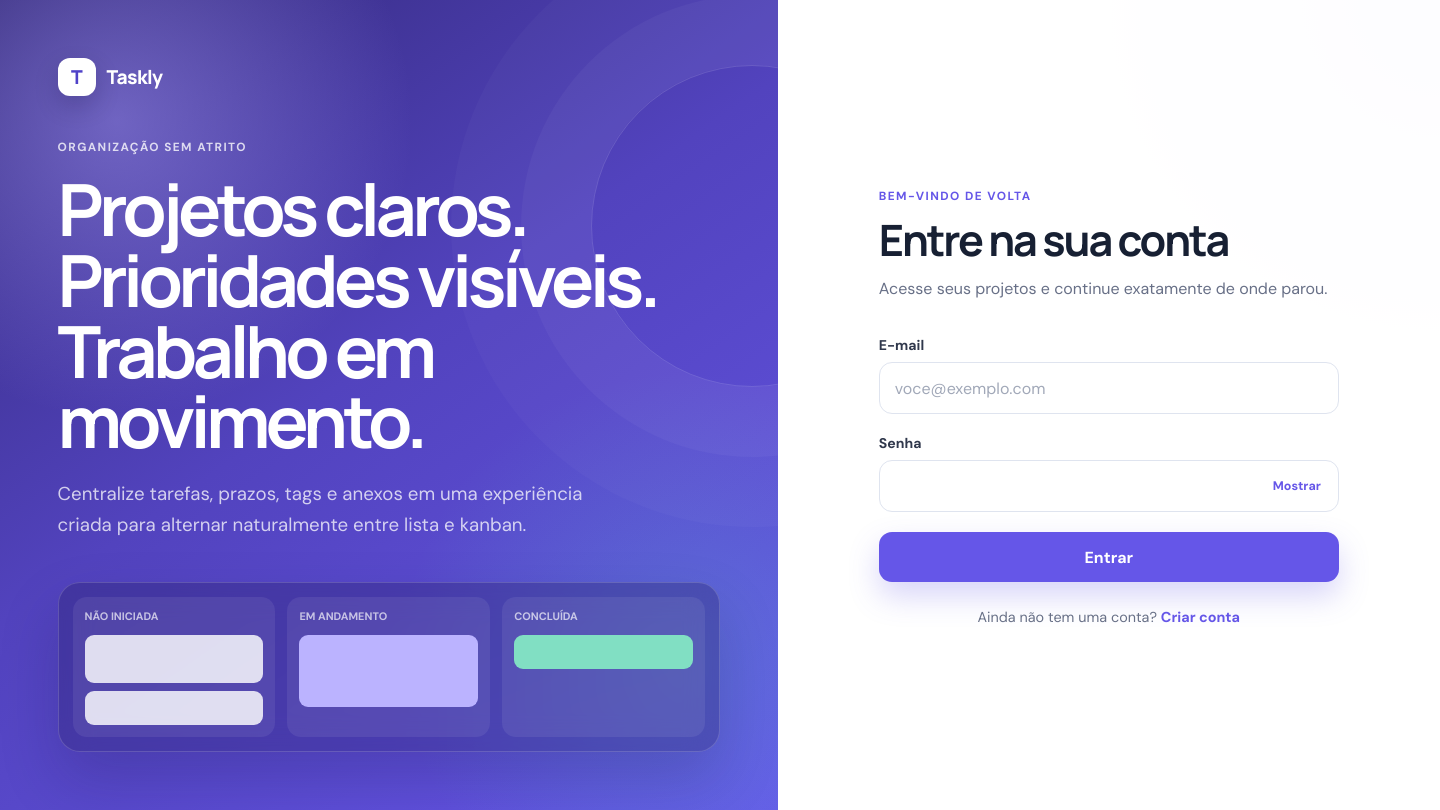
it: LoginPage › shows validation messages before sending invalid data
Type "email-invalido" into the field labelled "E-mail".
click(1109, 388); type("email-invalido")  # box [879, 362, 1339, 414]
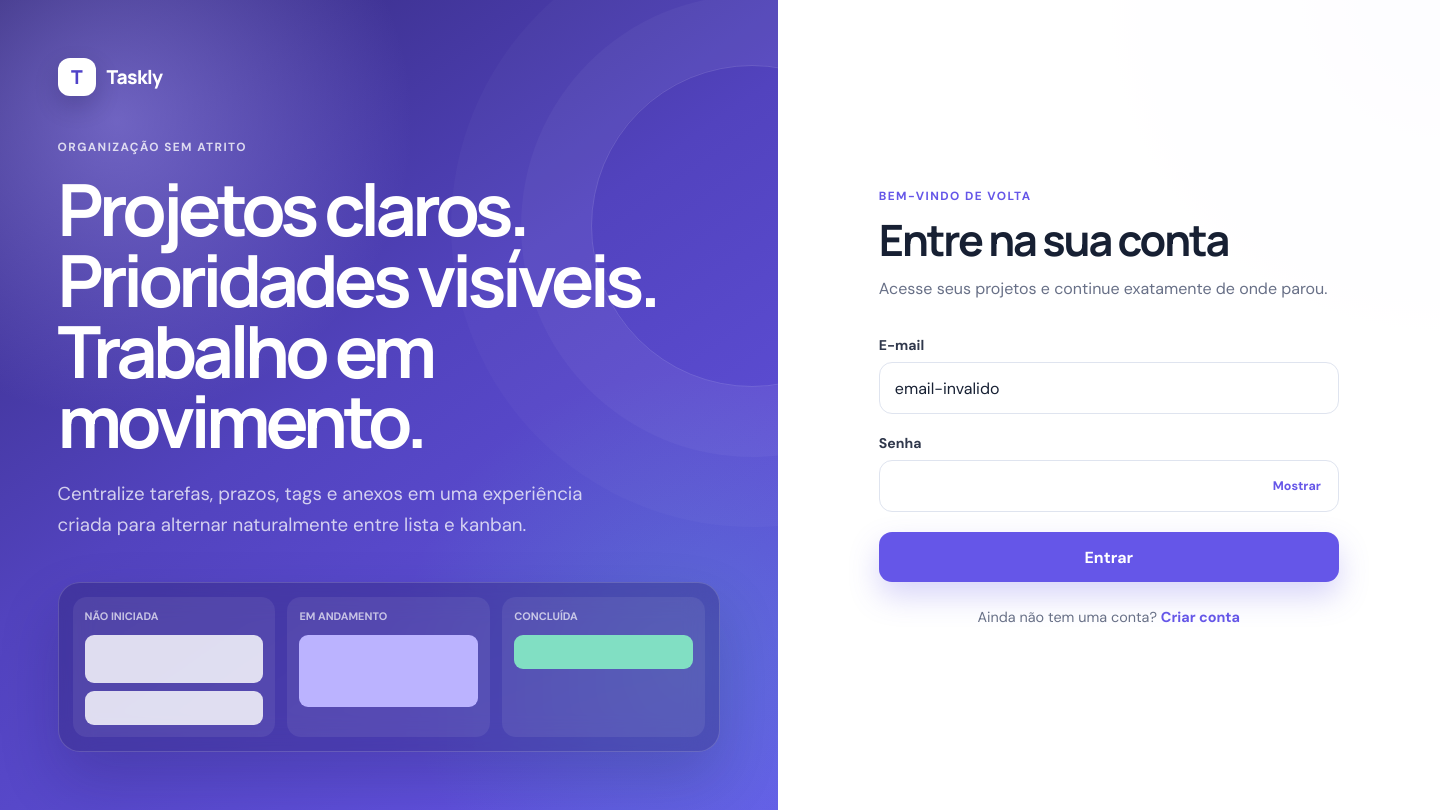
Type "123" into the password field labelled "Senha".
click(1109, 486); type("123")  # box [879, 460, 1339, 512]
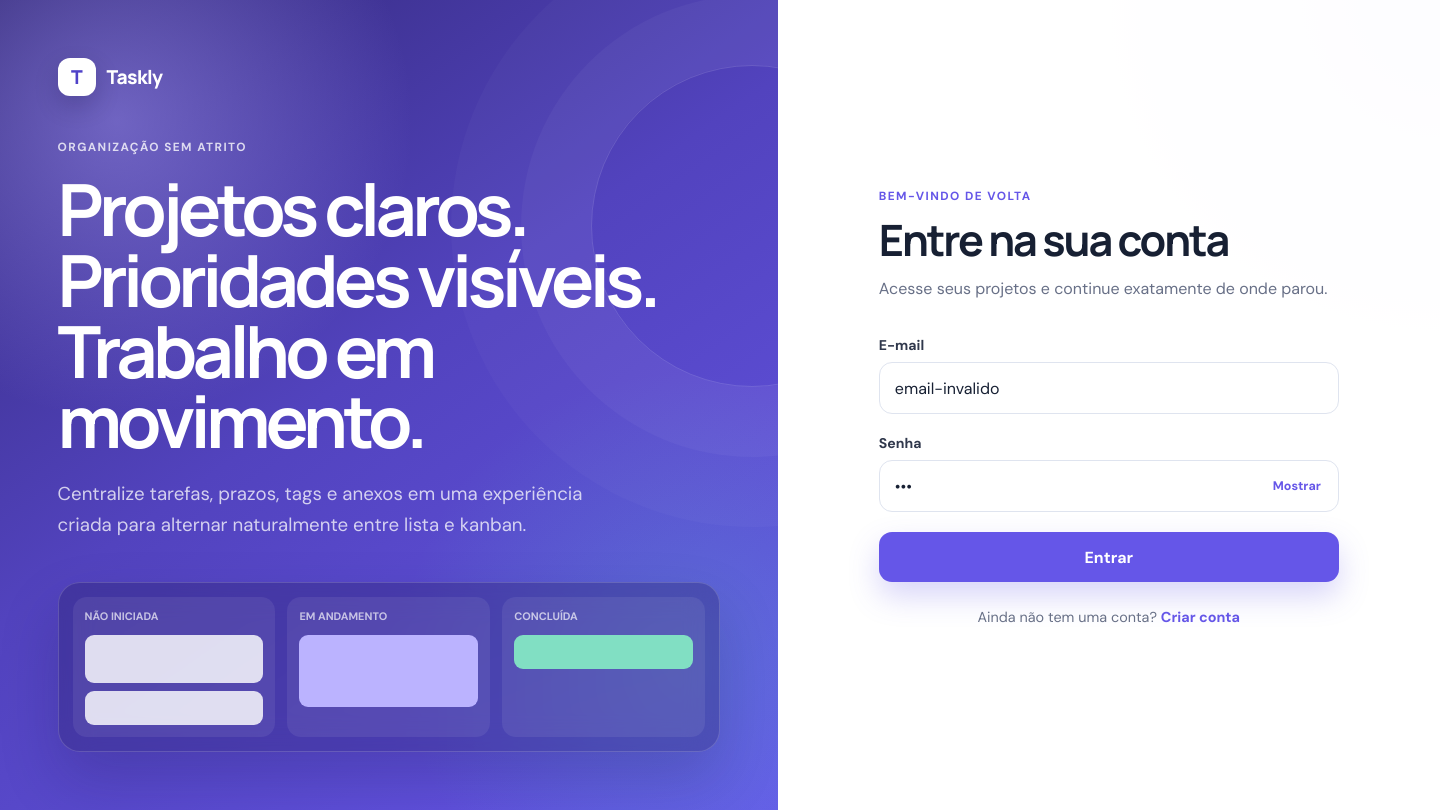
Click the button "Entrar".
click(1109, 557)  # box [879, 532, 1339, 582]
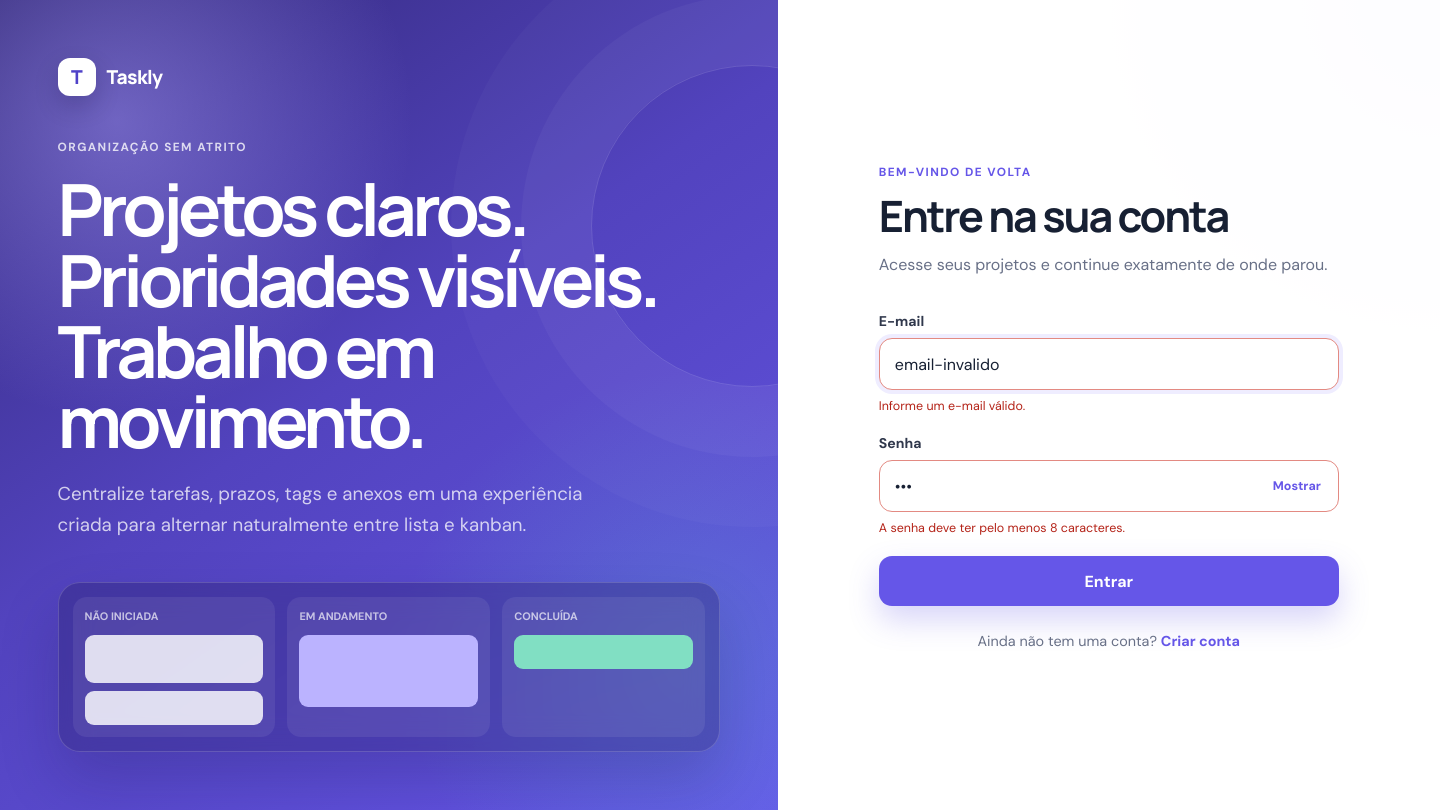
Expected: the text "Informe um e-mail válido." is shown, [879, 398, 1025, 414]
Expected: the text "A senha deve ter pelo menos 8 caracteres." is shown, [879, 520, 1125, 536]
